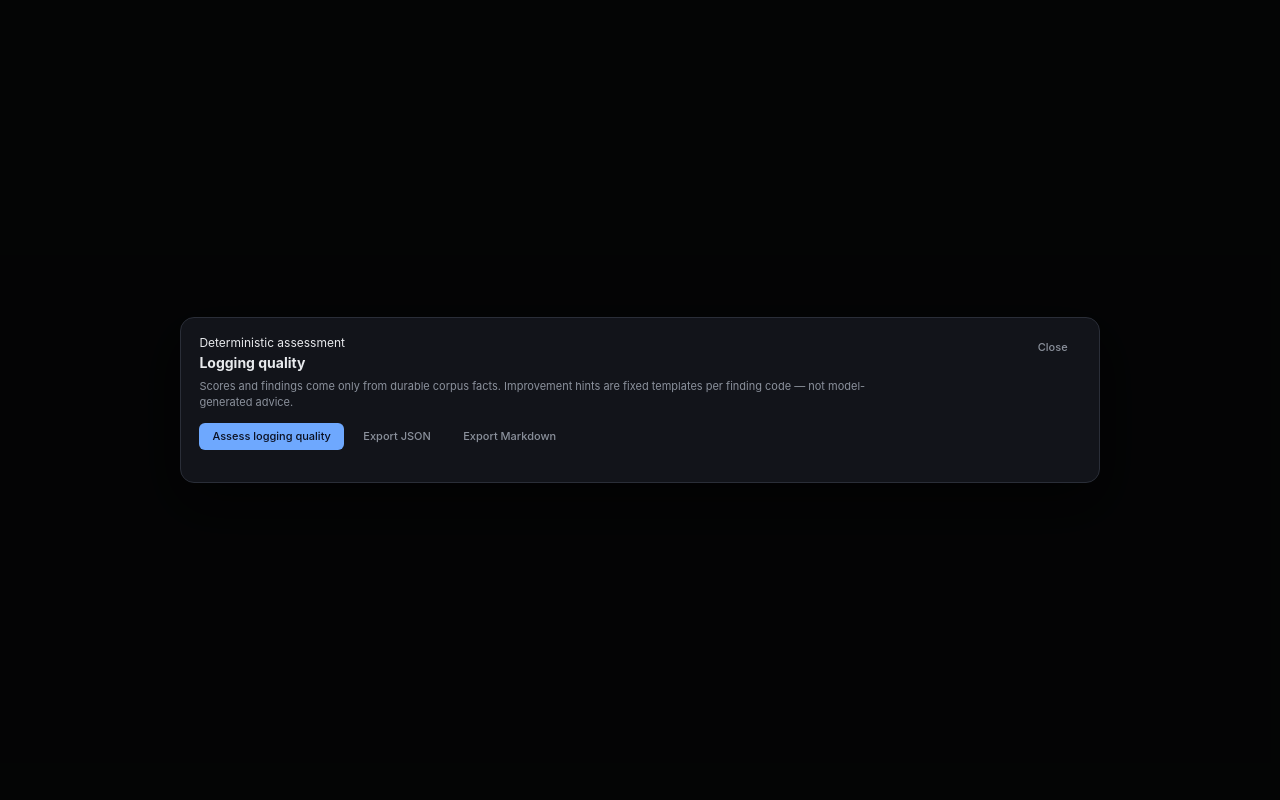
LoggingQualityPanel › cancels an in-flight run generation
The width and height of the screenshot is (1280, 800).
Click the button with test id "lqa-run" at (272, 437), box [199, 423, 344, 450]
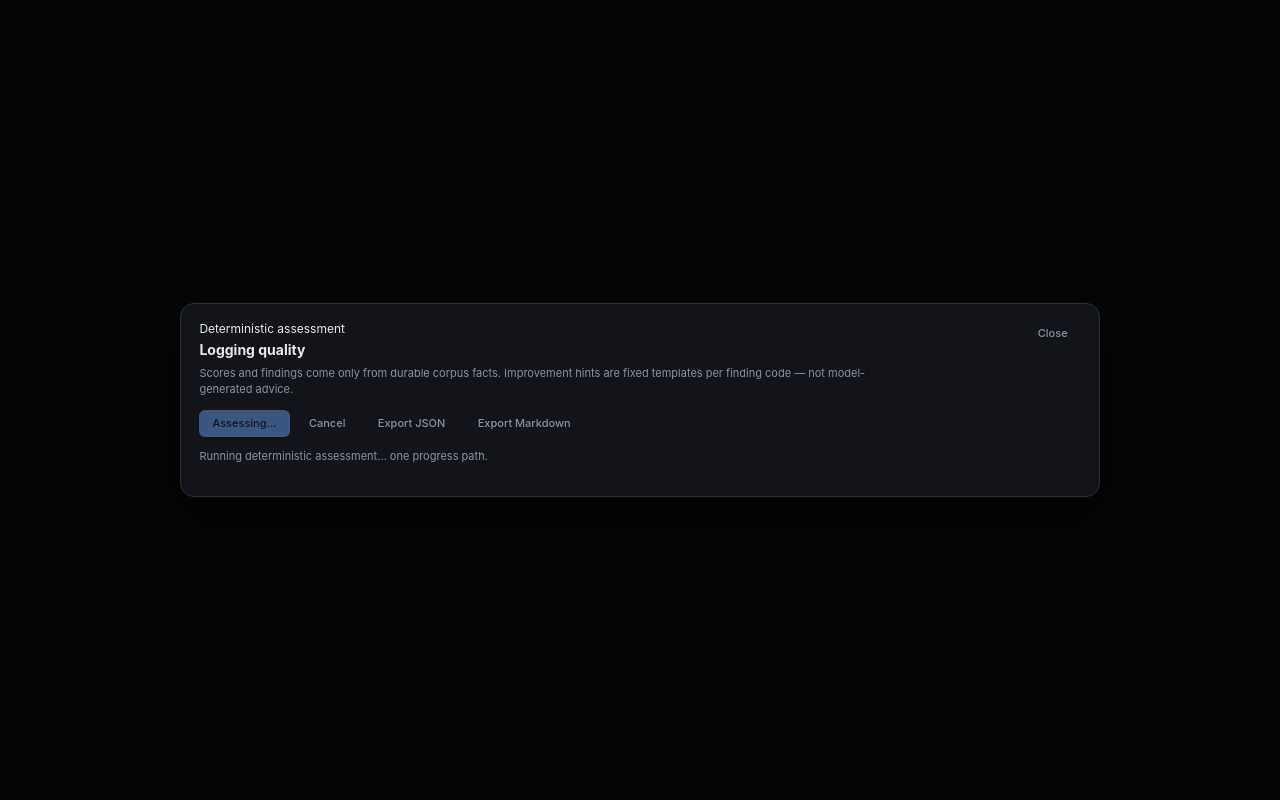
Check: the message "Running deterministic assessment… one progress path." is shown, box [199, 449, 488, 463]
Click the button with test id "lqa-cancel" at (327, 424), box [296, 410, 358, 437]
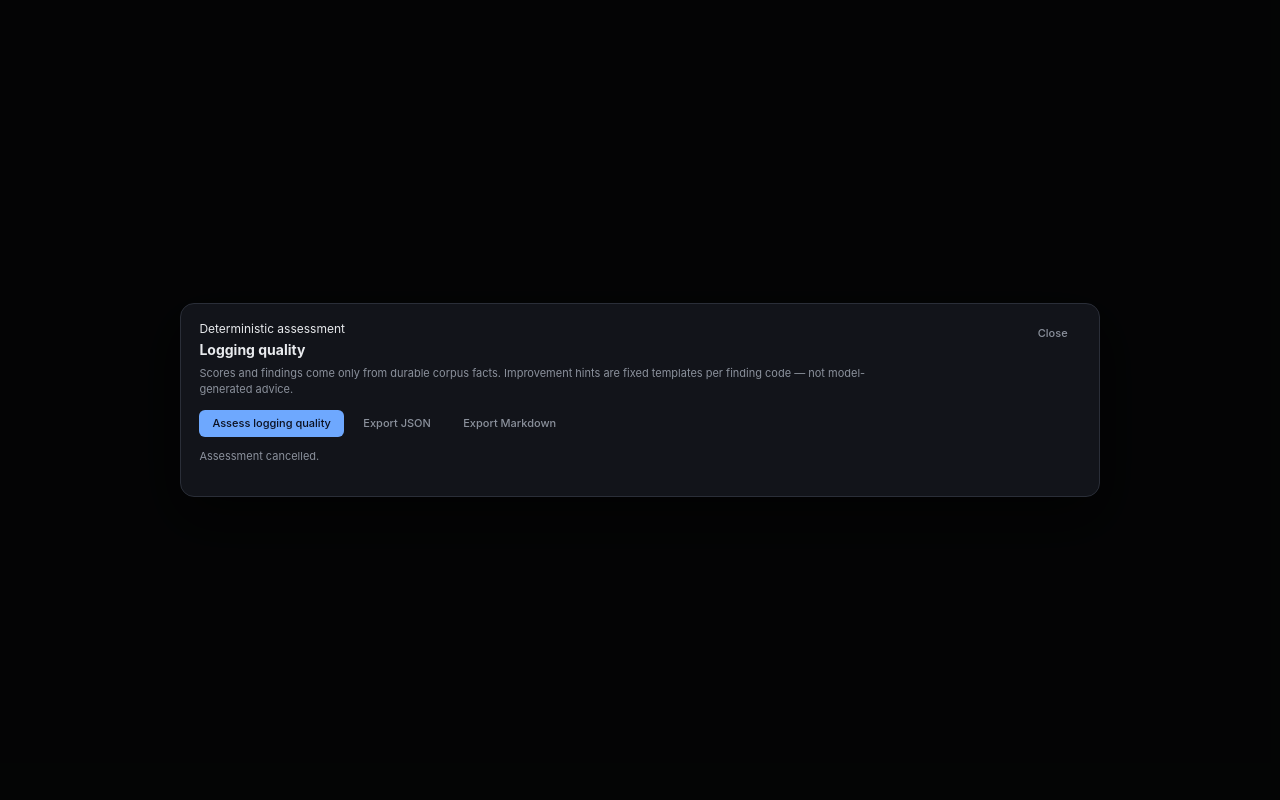
Check: the message with test id "lqa-status" shows "cancelled", box [199, 449, 319, 463]
